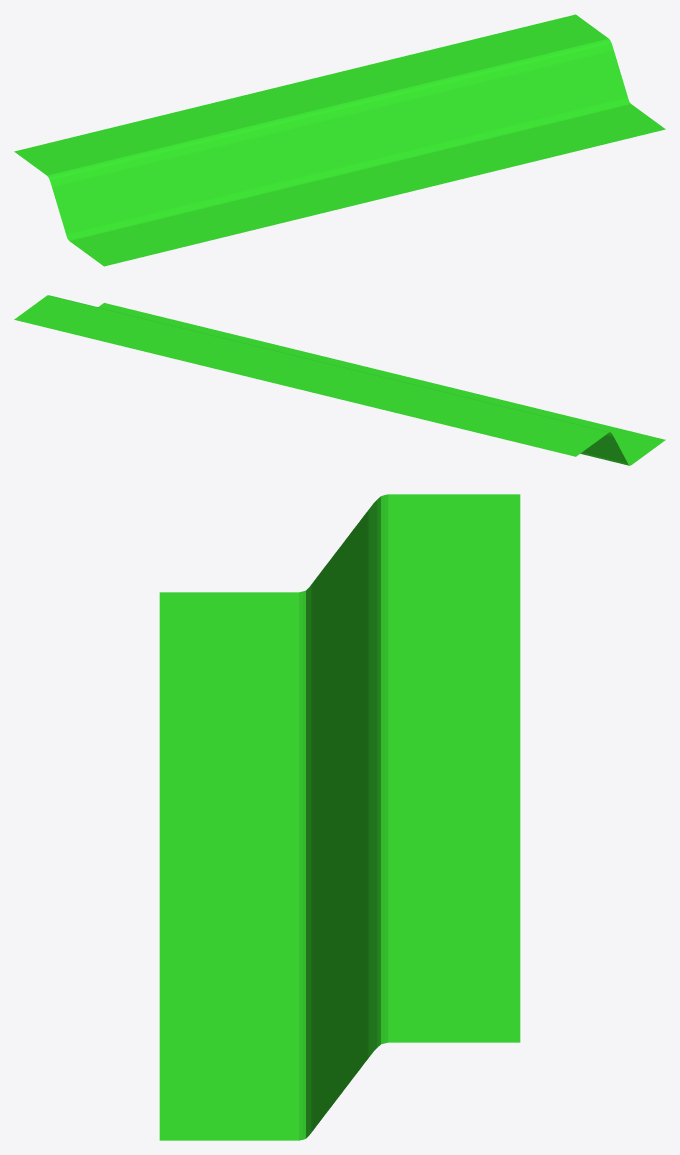
Rendered from terrain.glb.
3 renders of one model, top to bottom at view 1: azimuth 30°, elevation 25°; view 2: azimuth 150°, elevation 25°; view 3: azimuth 270°, elevation 25°, orthographic. The views are drawn at different scales.
Visible parts, largest first — view 1: Plane; view 2: Plane; view 3: Plane.
Part boxes in pixels (x1,y1,x2,y2): Plane: (14,14,665,266); Plane: (14,295,665,465); Plane: (159,494,520,1140).
Bounding box in the file's own units: 180 × 15 × 49.99.
